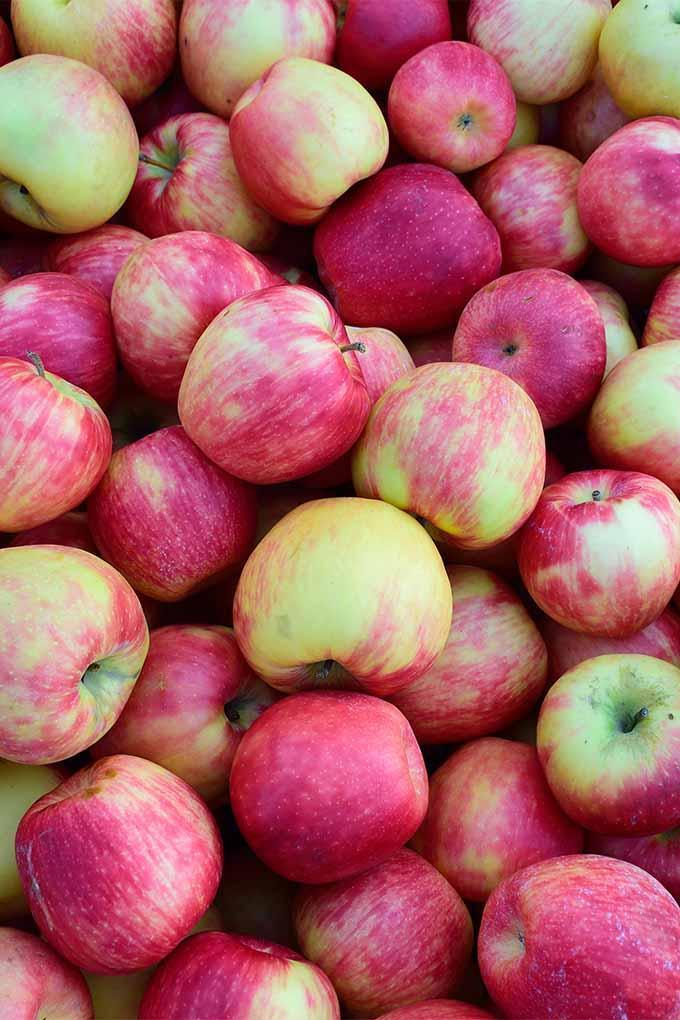apple: (231, 492, 454, 700), (18, 754, 220, 972), (176, 284, 377, 483), (231, 684, 428, 886), (351, 362, 548, 544), (1, 539, 149, 767), (475, 851, 678, 1014), (316, 164, 495, 330), (89, 422, 257, 595), (225, 54, 391, 228), (97, 621, 257, 800), (514, 468, 680, 640), (534, 651, 680, 839), (419, 738, 583, 899), (449, 267, 607, 432), (303, 850, 471, 1001), (1, 52, 138, 235), (110, 230, 267, 387), (408, 559, 547, 730), (1, 354, 113, 528), (385, 40, 520, 173), (138, 930, 338, 1016), (12, 1, 176, 99), (173, 1, 337, 99), (579, 116, 680, 269), (473, 146, 594, 268), (461, 1, 605, 103), (592, 339, 680, 486), (334, 1, 450, 98)
